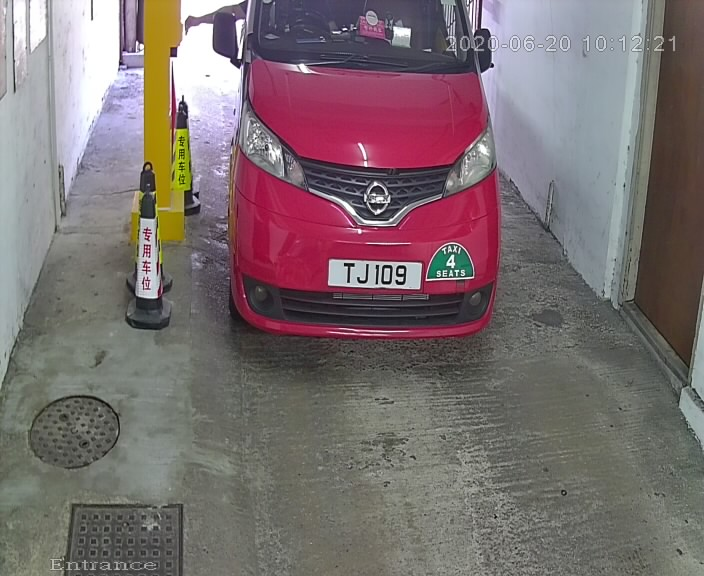taxi: (206, 2, 526, 384)
taxi_mark: (424, 239, 484, 288)
